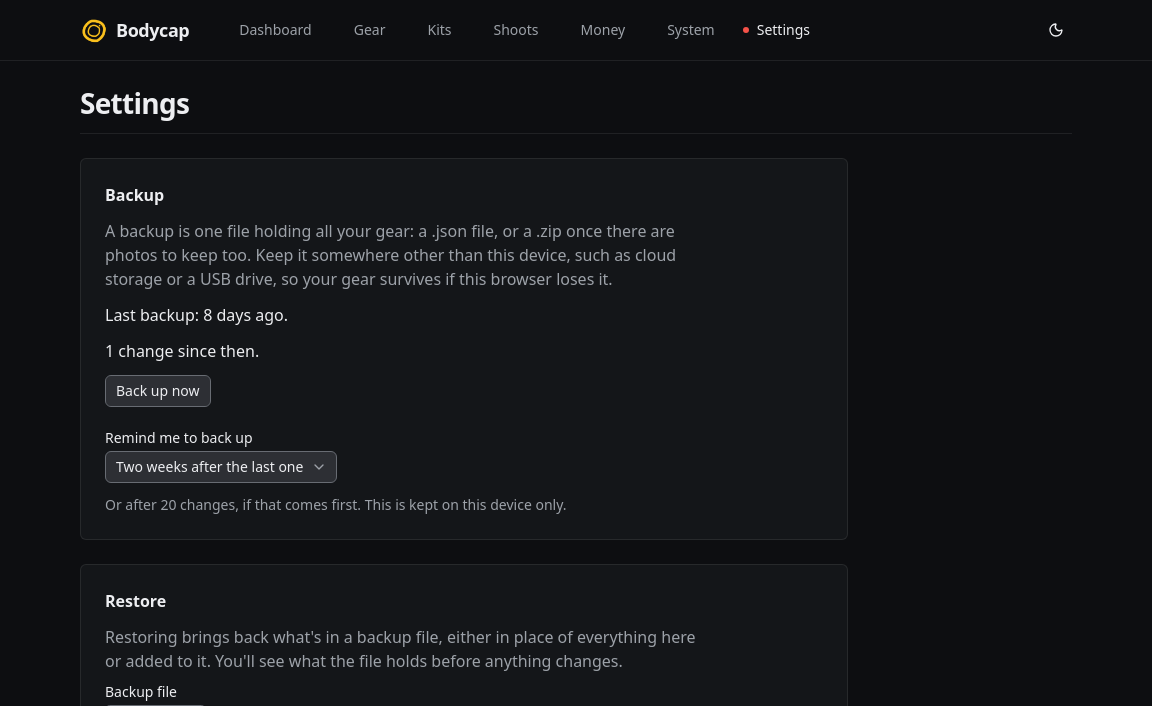
Test: preferences › reminds about backups after the time chosen here
Check: the heading "Settings" is shown, box [80, 85, 189, 121]
Select "A week after the last one" in the dropdown labelled "Remind me to back up": (221, 467) [105, 451, 337, 483]
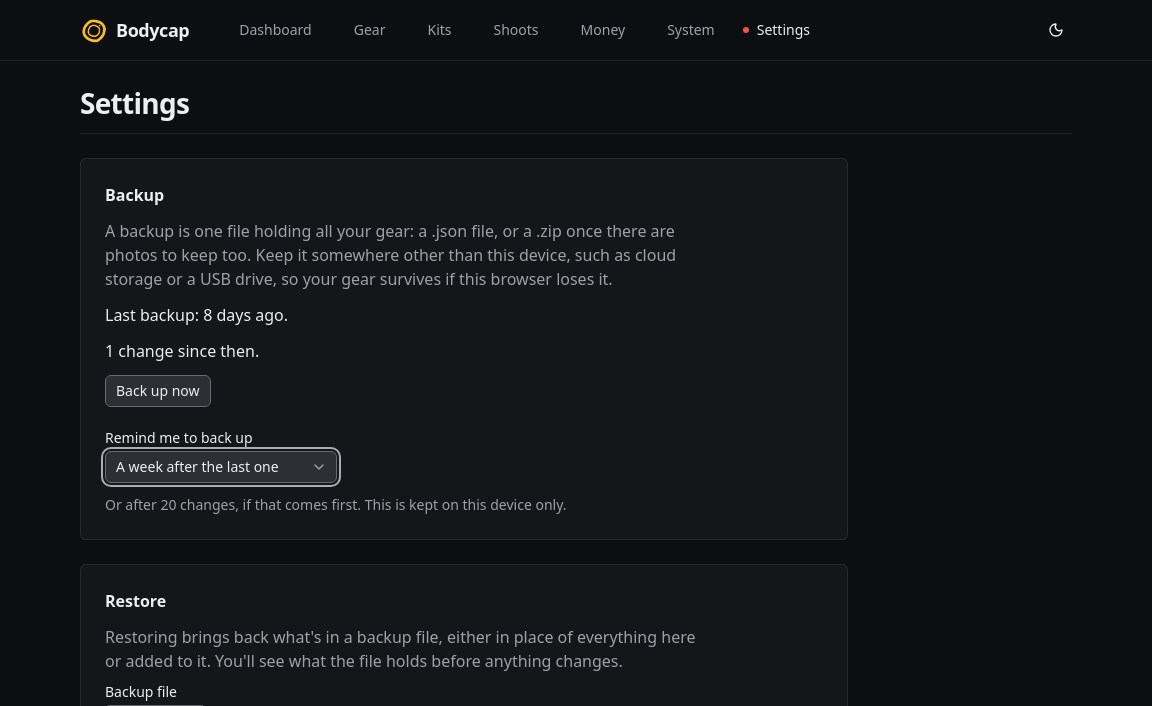
Click the link "Dashboard": (276, 30) [239, 20, 312, 39]
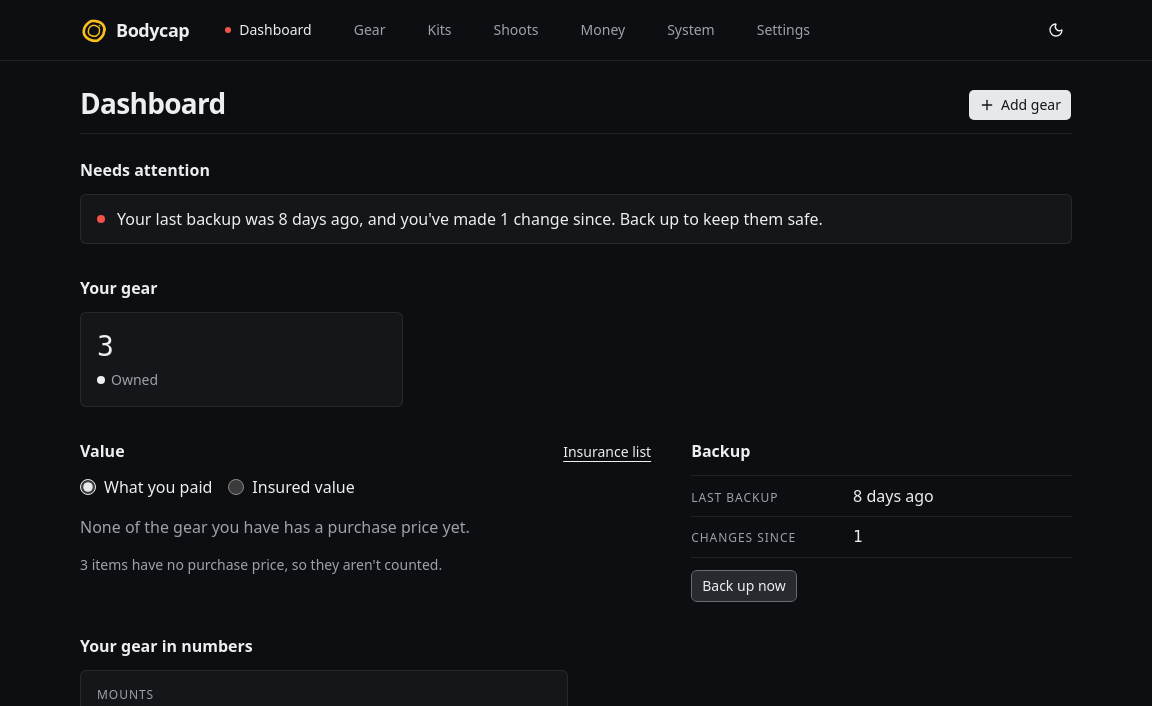
Check: the text "Your last backup was 8 days ago" is shown, box [117, 208, 823, 230]
